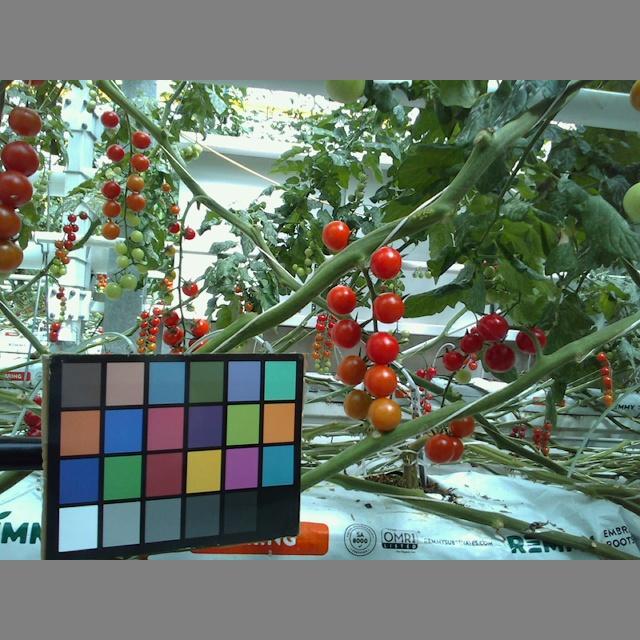green: (619, 179, 640, 221), (102, 278, 122, 302), (119, 272, 137, 289), (123, 211, 140, 228), (128, 229, 144, 245), (113, 253, 128, 269), (128, 248, 146, 261), (112, 239, 127, 254)
pink: (8, 106, 46, 139), (362, 365, 398, 397), (367, 399, 404, 430), (1, 206, 25, 244), (425, 434, 455, 464), (342, 391, 373, 419), (338, 355, 366, 386), (1, 241, 24, 273), (448, 413, 474, 439), (101, 196, 123, 218), (130, 130, 152, 150), (125, 193, 147, 210), (126, 174, 147, 191), (100, 223, 120, 240), (132, 154, 149, 171)
red: (1, 140, 39, 178), (1, 171, 35, 206), (365, 331, 402, 363), (370, 246, 403, 280), (320, 219, 352, 252), (485, 342, 518, 374), (330, 316, 362, 348), (373, 292, 404, 324), (325, 285, 357, 315), (477, 315, 510, 343), (517, 328, 546, 353), (160, 327, 186, 346), (191, 317, 211, 339), (160, 306, 179, 328), (107, 143, 125, 162), (102, 181, 121, 199), (101, 110, 119, 127), (183, 277, 198, 295)
